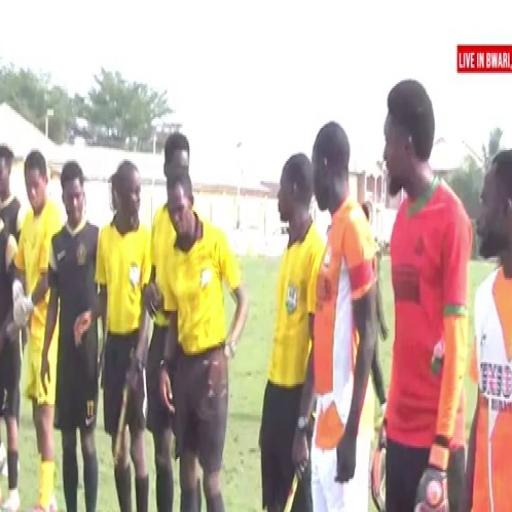keeper1: (380, 84, 466, 512)
keeper2: (14, 137, 56, 512)
referee: (151, 144, 229, 512), (255, 156, 315, 512), (105, 152, 149, 512)
team1: (308, 124, 376, 512), (478, 131, 512, 512)
team2: (60, 150, 98, 512), (0, 129, 16, 499)
